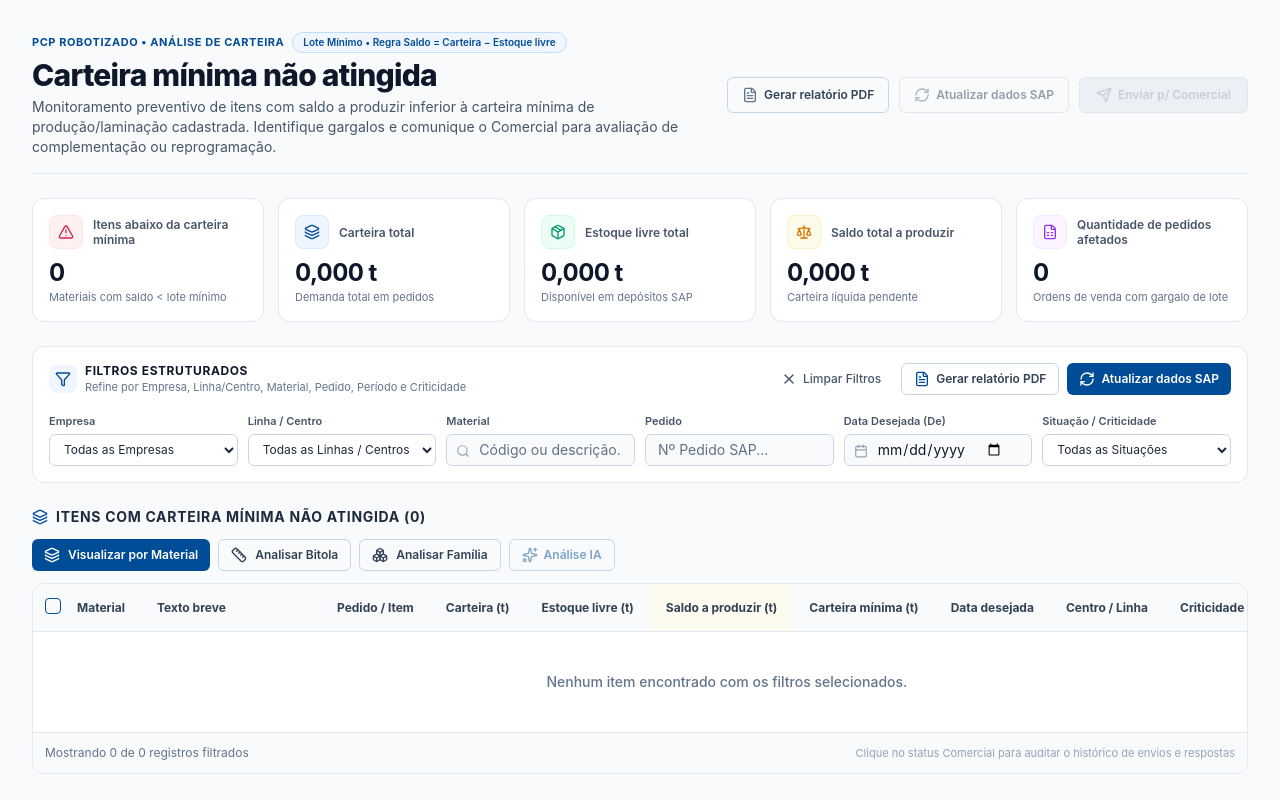
Scenario: CarteiraMinimaNaoAtingidaPage — Integração e Alternância de Visões › clicar em uma linha consolidada abre o modal de detalhamento da Bitola/Família
Click the button "Analisar Bitola" at (285, 555), box [218,539,351,571]
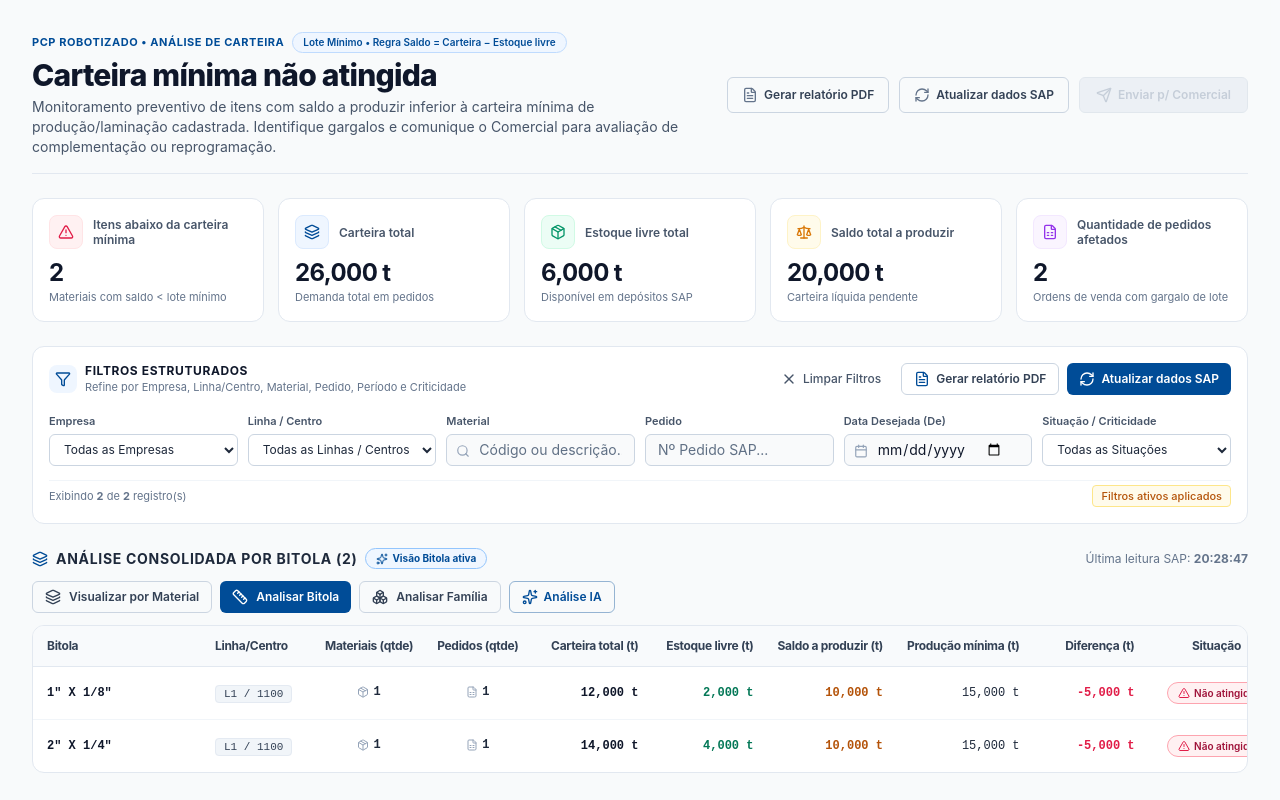
Click the text "1\" X 1/8\"" at (79, 693), box [47,685,112,701]
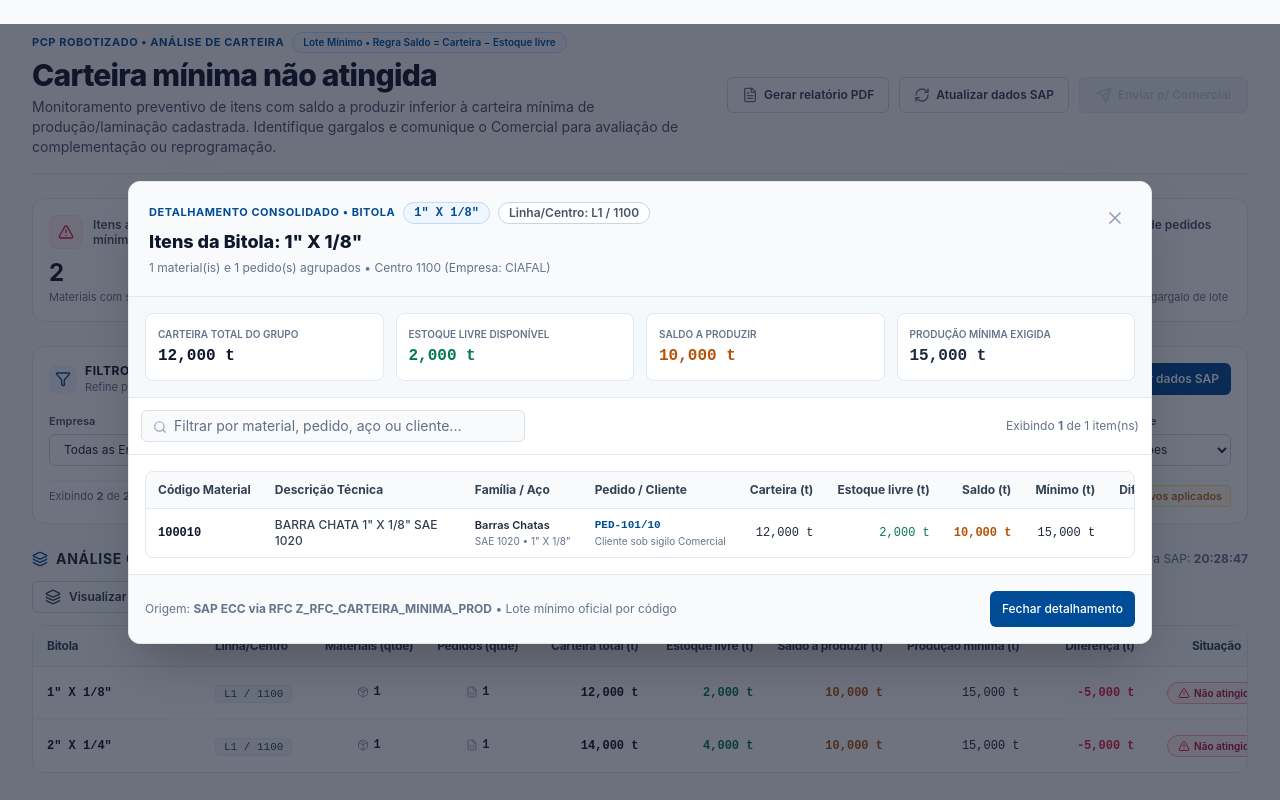
Expected: the text "Detalhamento Consolidado • Bitola" is shown, [149,204,395,221]
Expected: the heading "Itens da Bitola: 1\" X 1/8\"" is shown, [149,230,362,252]
Expected: the text "PED-101/10" is shown, [595,518,661,530]
# Fechar detalhamento
Click the button "Fechar detalhamento" at (1062, 608), box [990,590,1135,626]
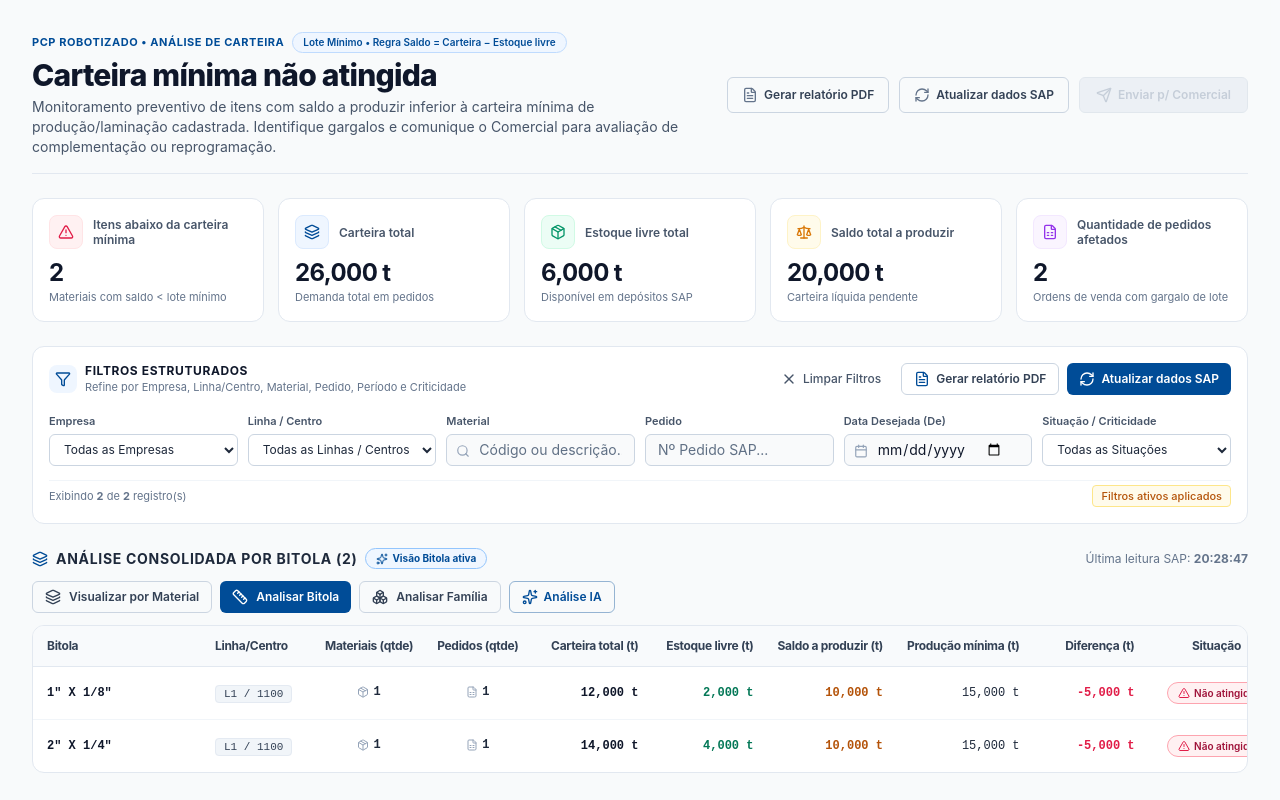
Expected: the text "Detalhamento Consolidado • Bitola" is gone
